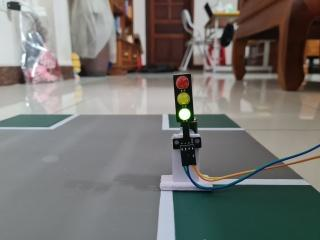green: (169, 66, 199, 136)
